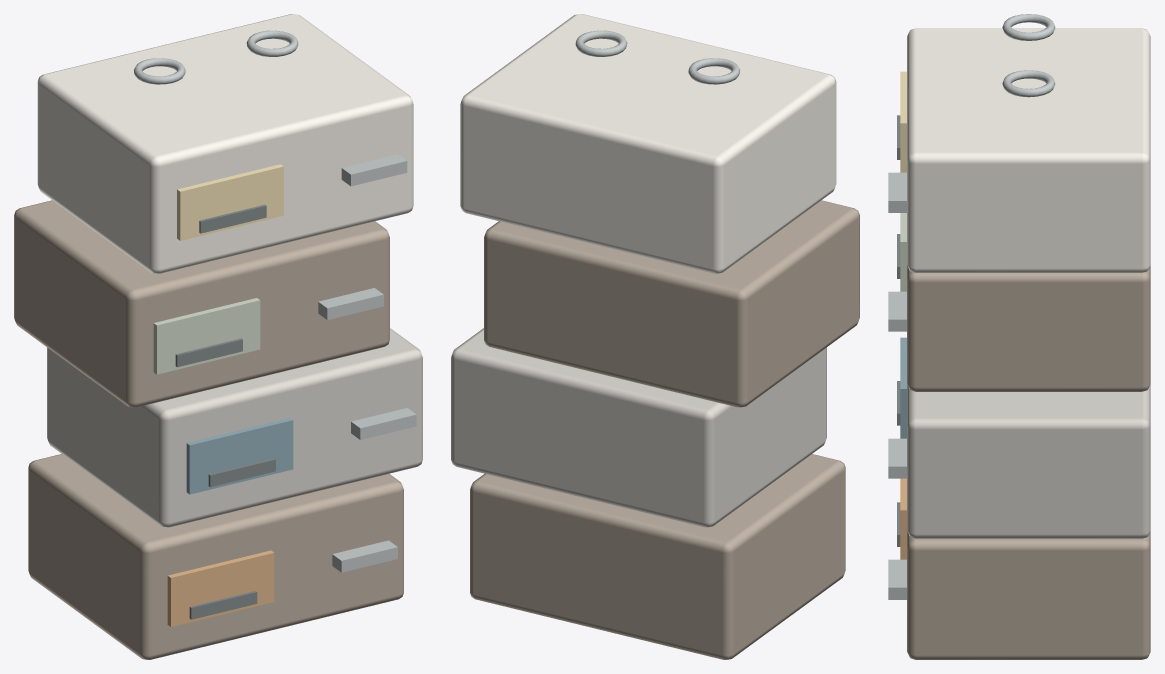
The model's file is model-box-stack.glb.
The picture shows the model from 3 angles, left to right: view 1: azimuth 30°, elevation 25°; view 2: azimuth 150°, elevation 25°; view 3: azimuth 270°, elevation 25°; orthographic projection. The views are drawn at different scales.
Parts seen in each view (by area): view 1: 147-model-box-stack/0, 147-model-box-stack/7, 147-model-box-stack/4, 147-model-box-stack/3, 147-model-box-stack/1, 147-model-box-stack/6, 147-model-box-stack/5, 147-model-box-stack/8, 147-model-box-stack/2; view 2: 147-model-box-stack/0, 147-model-box-stack/7, 147-model-box-stack/4, 147-model-box-stack/3; view 3: 147-model-box-stack/0, 147-model-box-stack/7, 147-model-box-stack/4, 147-model-box-stack/3, 147-model-box-stack/2, 147-model-box-stack/5, 147-model-box-stack/8, 147-model-box-stack/1, 147-model-box-stack/6.
Boxes of the visible parts, x1,y1,x2,y2 form: 147-model-box-stack/0: (14, 200, 403, 659); 147-model-box-stack/7: (37, 14, 413, 273); 147-model-box-stack/4: (47, 328, 422, 527); 147-model-box-stack/3: (134, 30, 416, 572); 147-model-box-stack/1: (167, 550, 274, 626); 147-model-box-stack/6: (153, 298, 260, 374); 147-model-box-stack/5: (186, 418, 293, 494); 147-model-box-stack/8: (177, 164, 283, 240); 147-model-box-stack/2: (175, 204, 275, 619); 147-model-box-stack/0: (470, 200, 859, 659); 147-model-box-stack/7: (460, 14, 836, 273); 147-model-box-stack/4: (451, 328, 826, 527); 147-model-box-stack/3: (575, 30, 740, 84); 147-model-box-stack/0: (907, 265, 1150, 659); 147-model-box-stack/7: (907, 28, 1150, 272); 147-model-box-stack/4: (907, 384, 1150, 538); 147-model-box-stack/3: (888, 14, 1055, 599); 147-model-box-stack/2: (897, 115, 900, 546); 147-model-box-stack/5: (900, 337, 906, 438); 147-model-box-stack/8: (900, 71, 906, 172); 147-model-box-stack/1: (900, 478, 906, 559); 147-model-box-stack/6: (900, 213, 906, 291).
Bounding box in the file's own units: 0.315 × 0.544 × 0.237.
